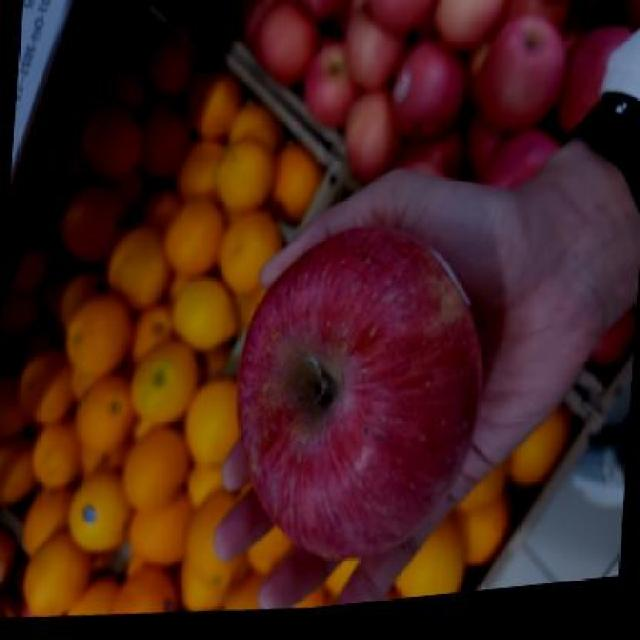Fresh Apple: (231, 228, 475, 580)
